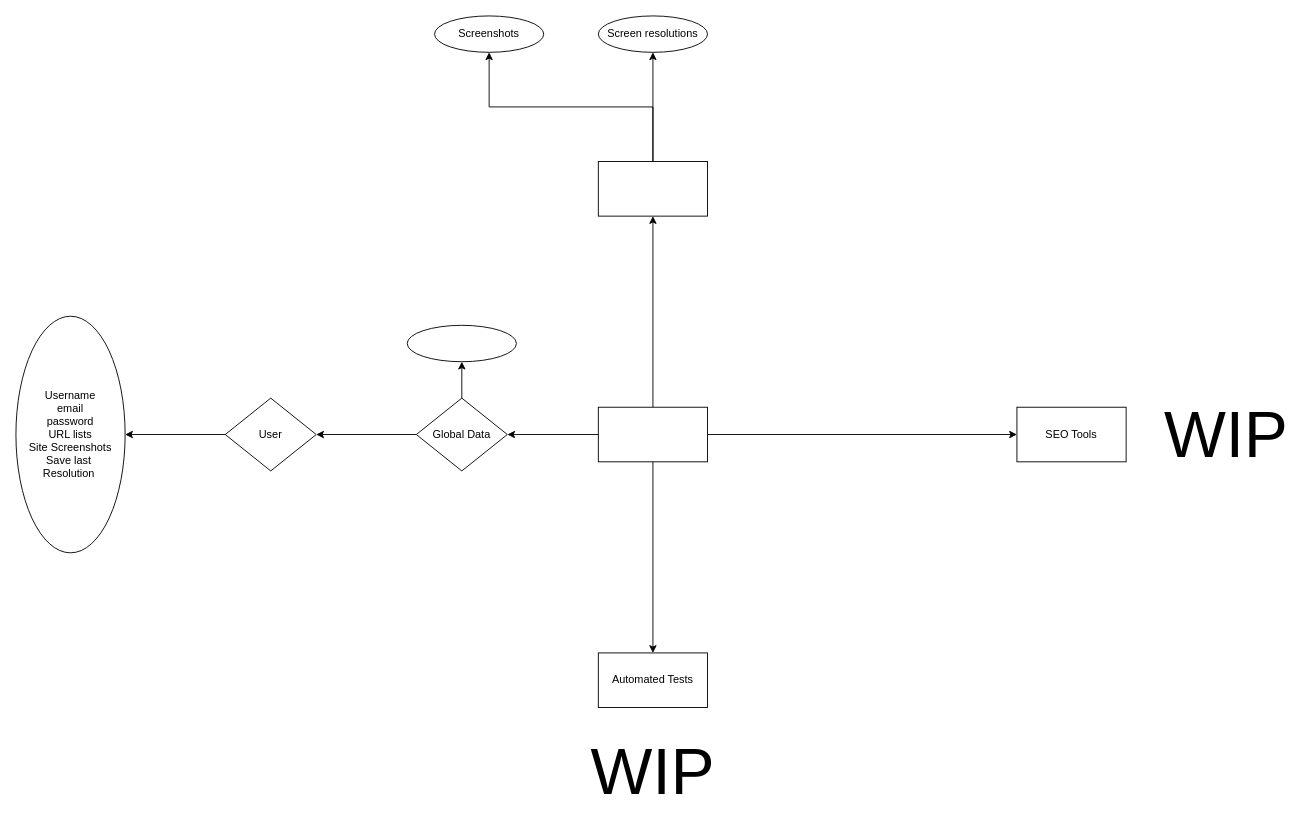
The diagram is 1315 pixels wide and 826 high, and some of its shapes have lost their labels. The shapes that lost their labels are listed below. From the top down, each one's centre as x and y in pixels, then its label:
At pixel 652 188: "Screenshot Tool".
At pixel 461 343: "URL/s".
At pixel 652 434: "QA Tool".
